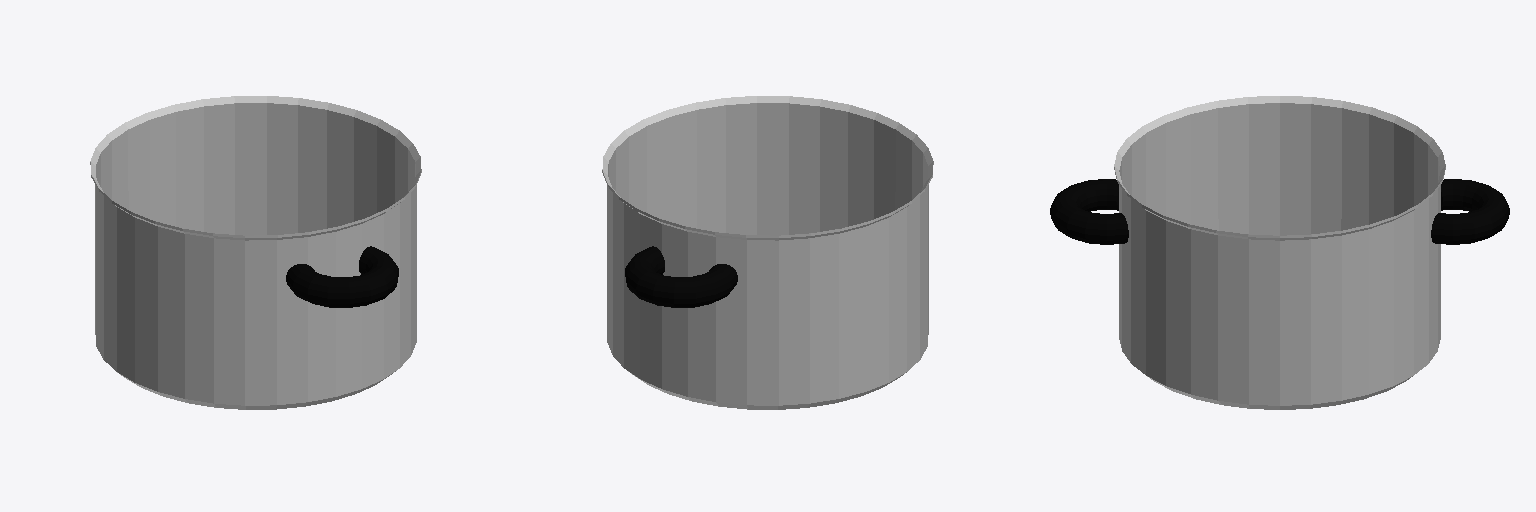
The model's file is bigPan.obj.
3 views of the same model, side by side, from view 1: azimuth 30°, elevation 25°; view 2: azimuth 150°, elevation 25°; view 3: azimuth 270°, elevation 25° (orthographic).
Visible parts, largest first — view 1: metal, handles; view 2: metal, handles; view 3: metal, handles.
Boxes of the visible parts, box(x1,y1,x2,y2) form: metal: box(90, 96, 421, 409); handles: box(286, 246, 398, 307); metal: box(602, 96, 933, 409); handles: box(625, 246, 737, 307); metal: box(1114, 96, 1445, 409); handles: box(1050, 179, 1509, 244).
Bounding box in the file's own units: 0.2198 × 0.132 × 0.3049.